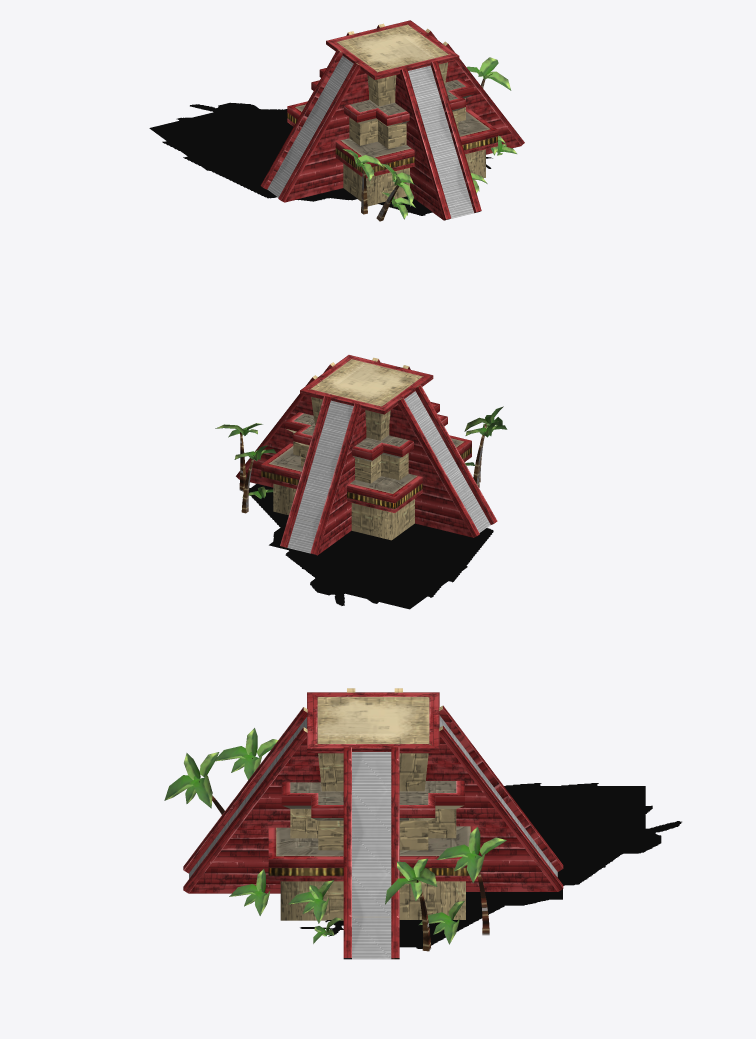
3 views of the same model, one above another, from view 1: azimuth 30°, elevation 25°; view 2: azimuth 150°, elevation 25°; view 3: azimuth 270°, elevation 25° (orthographic). The views are drawn at different scales.
Parts seen in each view (by area): view 1: Pyramid001, Shadow box; view 2: Pyramid001, Shadow box; view 3: Pyramid001, Shadow box.
Boxes of the visible parts, left/top/right/bottom form: Pyramid001: left=260, top=20, right=524, bottom=221; Shadow box: left=149, top=102, right=492, bottom=215; Pyramid001: left=215, top=355, right=507, bottom=555; Shadow box: left=249, top=484, right=493, bottom=609; Pyramid001: left=164, top=688, right=563, bottom=959; Shadow box: left=300, top=783, right=681, bottom=948.
Bounding box in the file's own units: 446 × 114 × 450.
2 materials, 2 textured.
